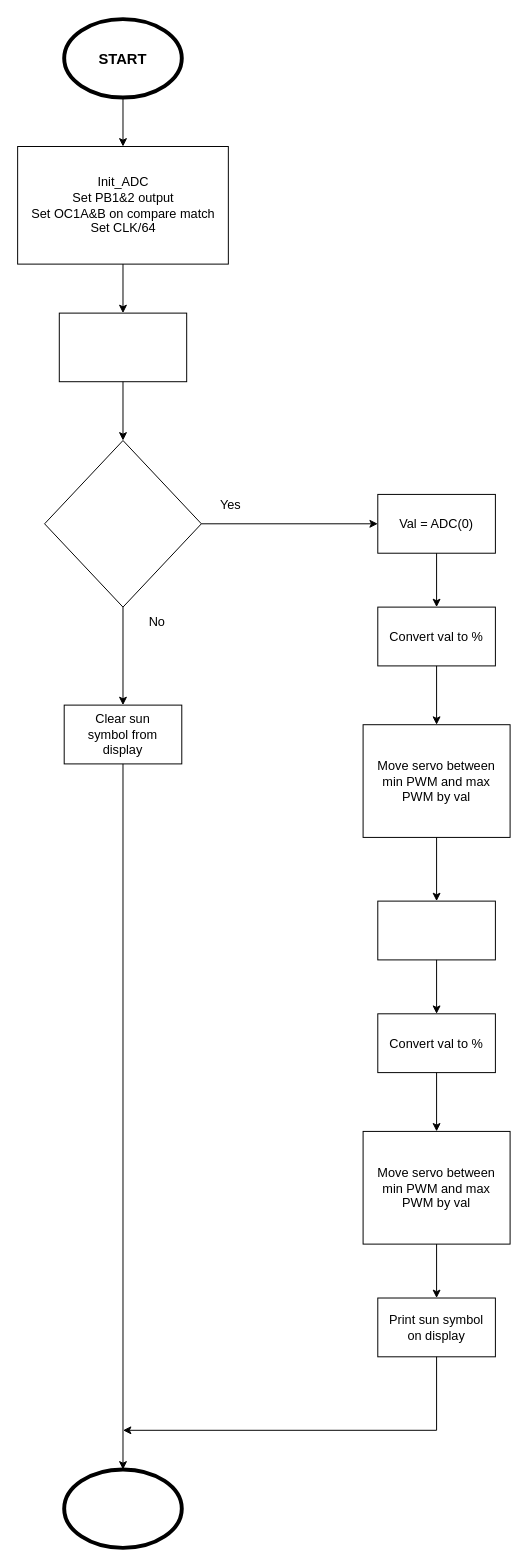
Image size: 527x1566. Some labels were removed from this diagram. The box of each missing label's shape, as (x1, y1, x2, y2) in pixels:
END: (62, 1467, 183, 1549)
If ADC(2) > 310 [30%]: (44, 440, 201, 607)
Set val to 0: (58, 312, 187, 382)
Val = ADC(1): (377, 900, 495, 960)
